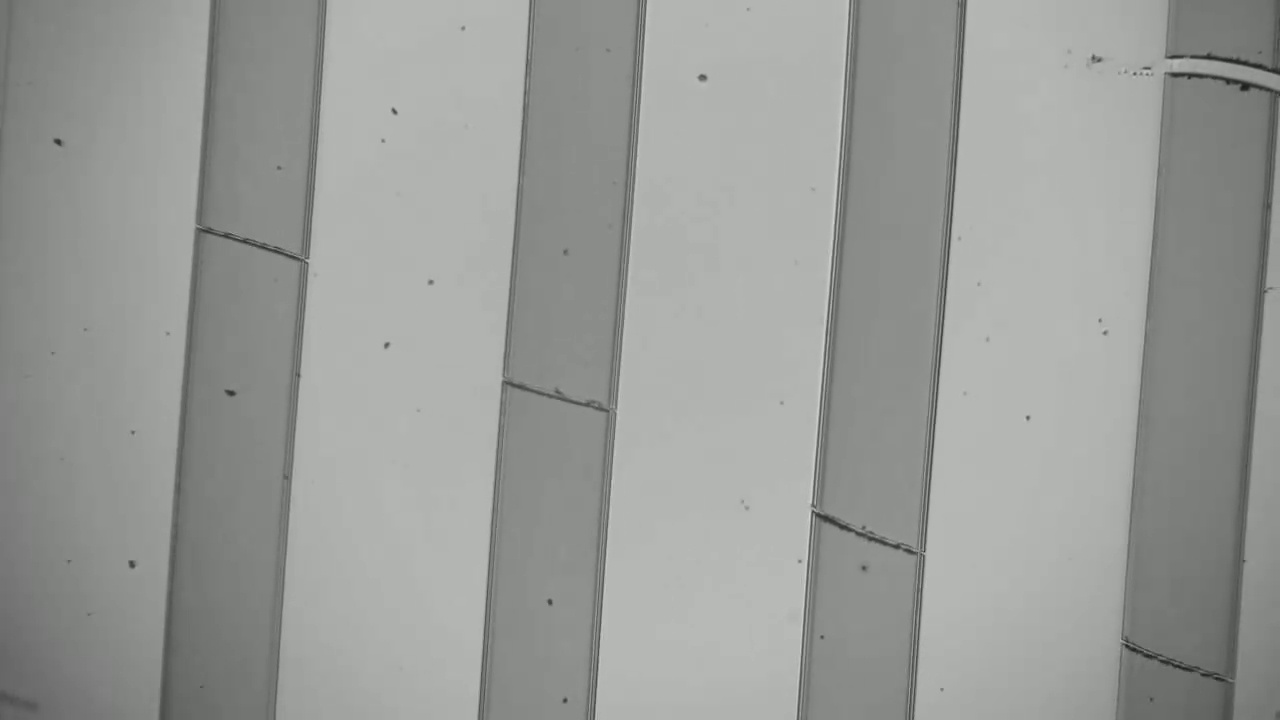Short_circuit: (1136, 45, 1280, 112)
scratch: (205, 222, 300, 272), (822, 508, 906, 561), (510, 375, 597, 424), (1132, 639, 1219, 688)
